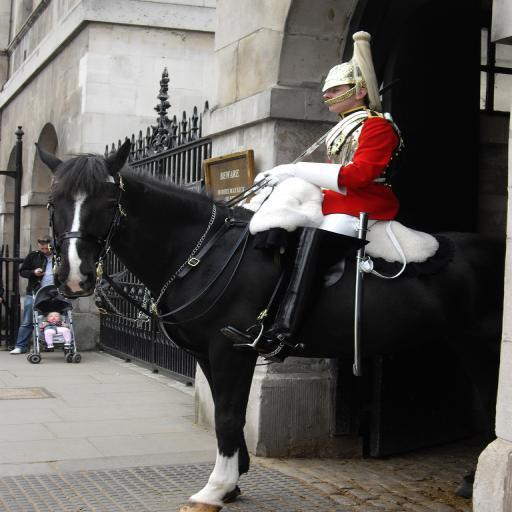horse: (32, 140, 506, 512)
